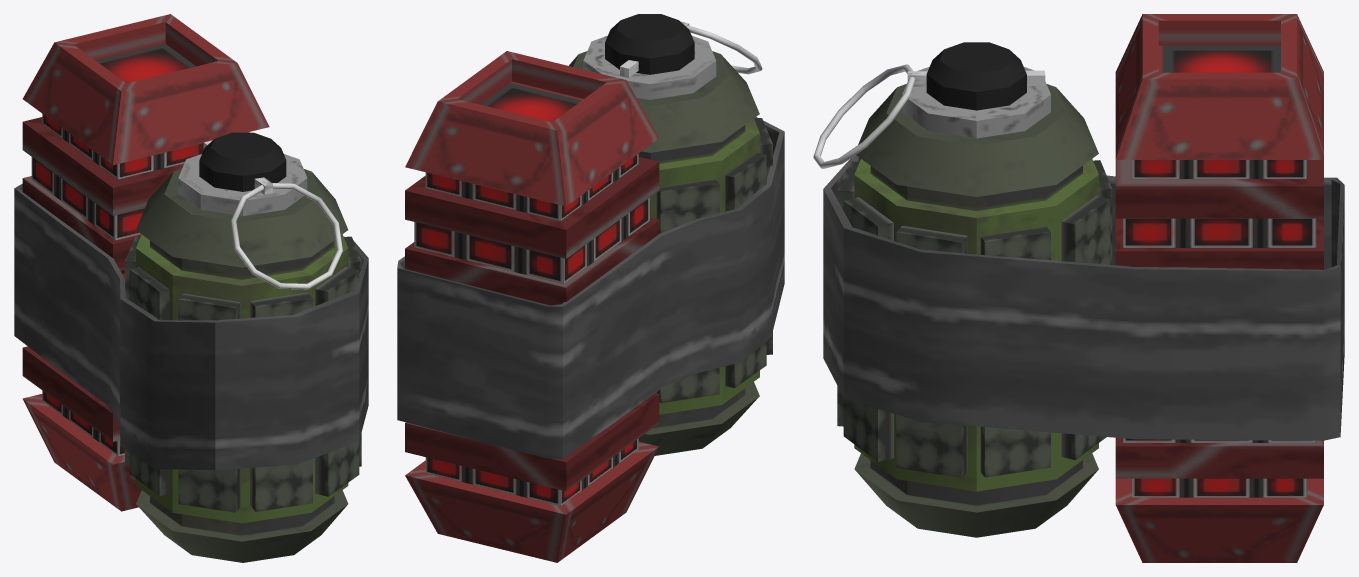
File: duct_taped_grenade.fbx
3 views of the same model, side by side, from view 1: azimuth 30°, elevation 25°; view 2: azimuth 150°, elevation 25°; view 3: azimuth 270°, elevation 25° (orthographic). The views are drawn at different scales.
Parts seen in each view (by area): view 1: Duct_Taped_Grenade; view 2: Duct_Taped_Grenade; view 3: Duct_Taped_Grenade.
Part boxes in pixels (x1,y1,x2,y2): Duct_Taped_Grenade: (14,14,368,562); Duct_Taped_Grenade: (397,14,784,562); Duct_Taped_Grenade: (813,14,1344,562).
Bounding box in the file's own units: 392 × 733 × 730.
